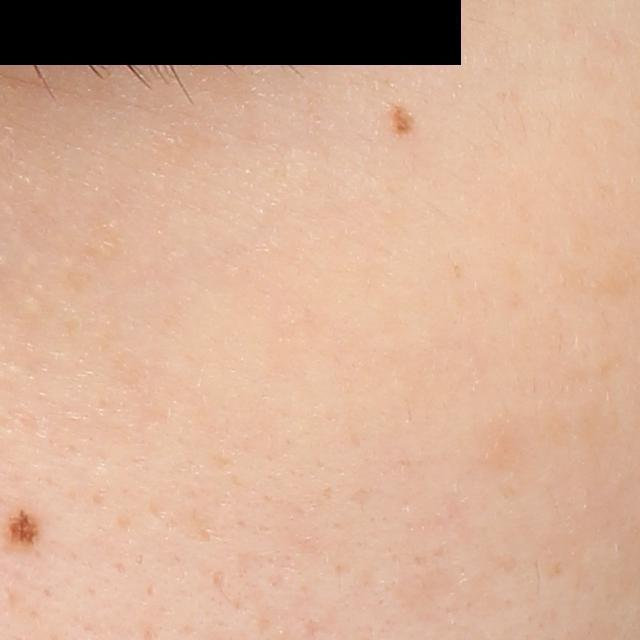nevus: (3, 504, 47, 554), (385, 105, 421, 141)
